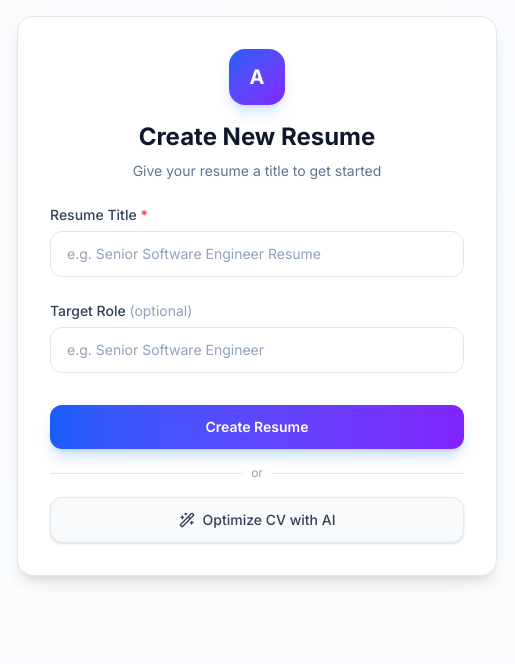
Test: Create resume form — creation failure › displays form-level error for resume creation failure
Type "My Resume" into the field labelled "Resume Title *" at (257, 254), box [50,231,464,277]
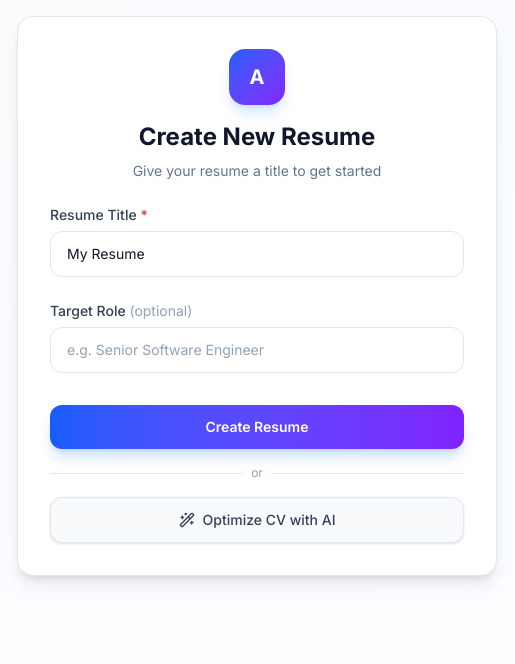
Click the button "Create Resume" at (257, 427), box [50,405,464,449]
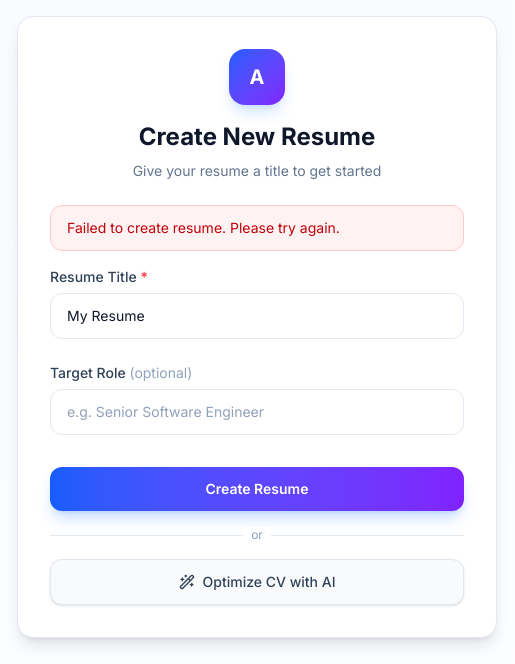
Expected: the text "Failed to create resume. Please try again." is shown, [50,205,464,251]
